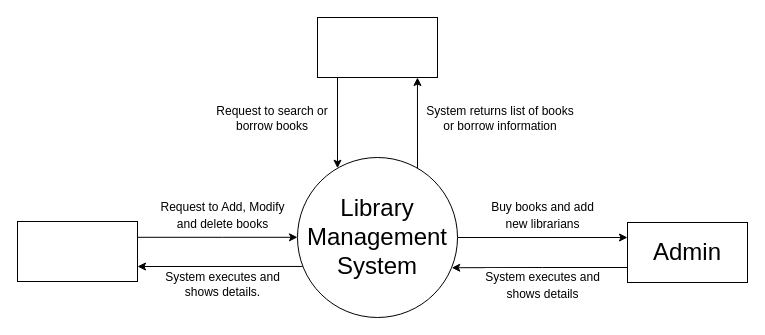
Some shapes in this 765 by 335 pixel diagram are drawn without their labels. Here are the shapes that lost their labels. From the top down, the box of each, then its label:
(316, 16, 438, 78): Student
(16, 220, 138, 282): Librarian
